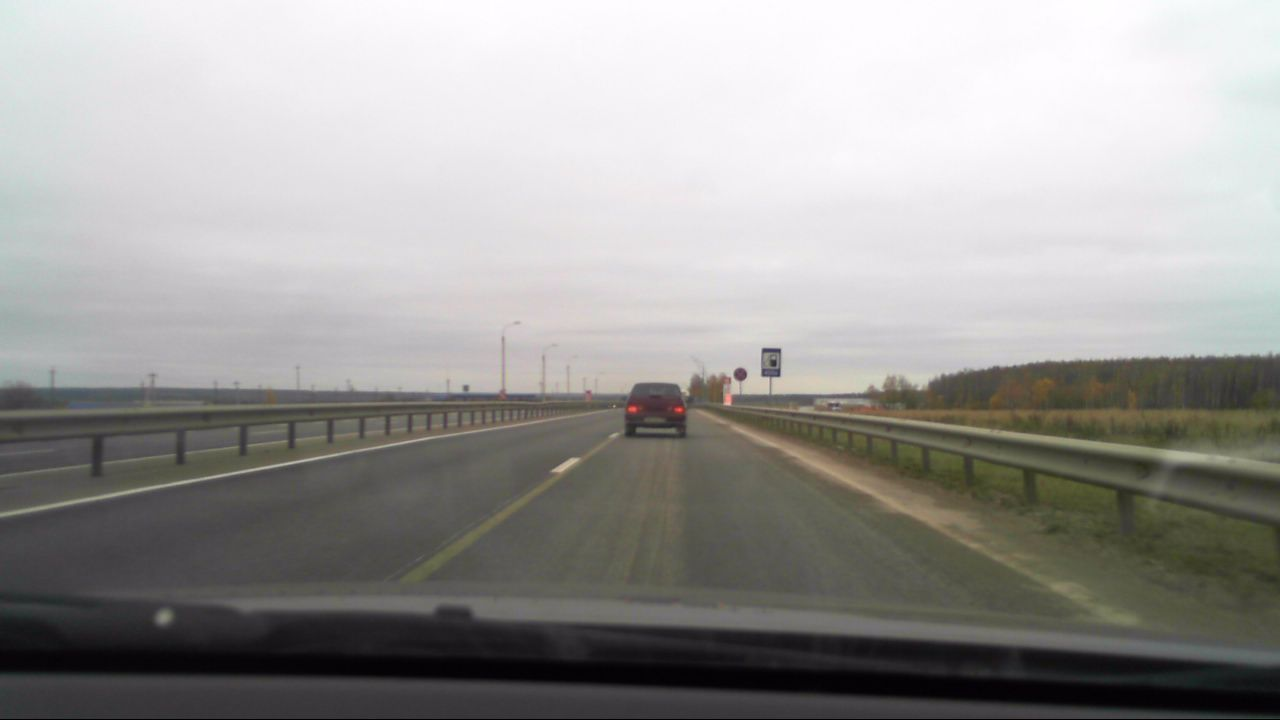No Parking: (731, 367, 748, 385)
